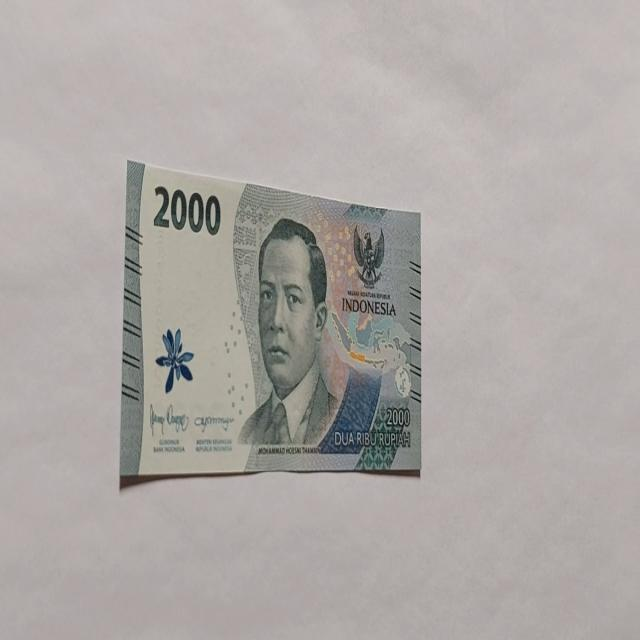dua ribu rupiah: (120, 158, 422, 487), (236, 216, 342, 452)
